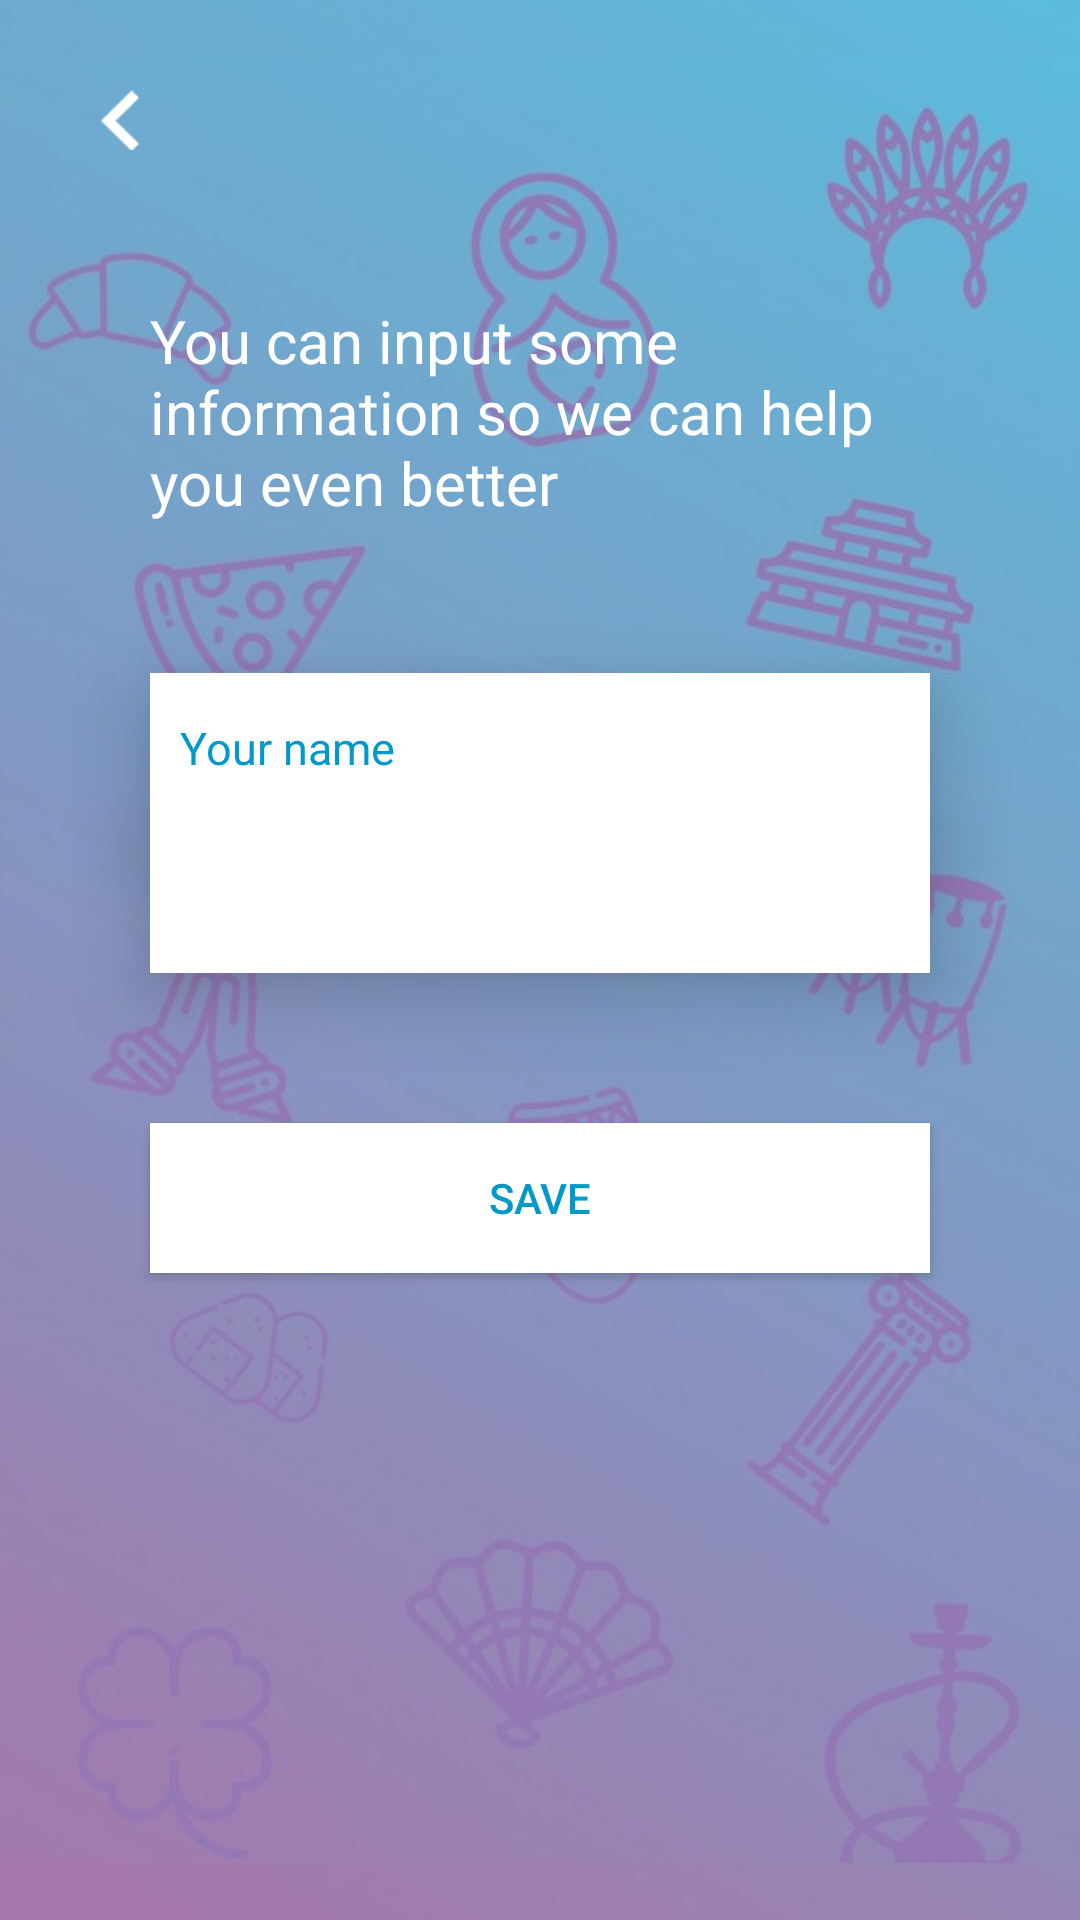

Icon bounding boxes for this 1080*1920 phone screenshot, format box(x1, y1, x2, y2):
back: box(101, 90, 139, 150)
